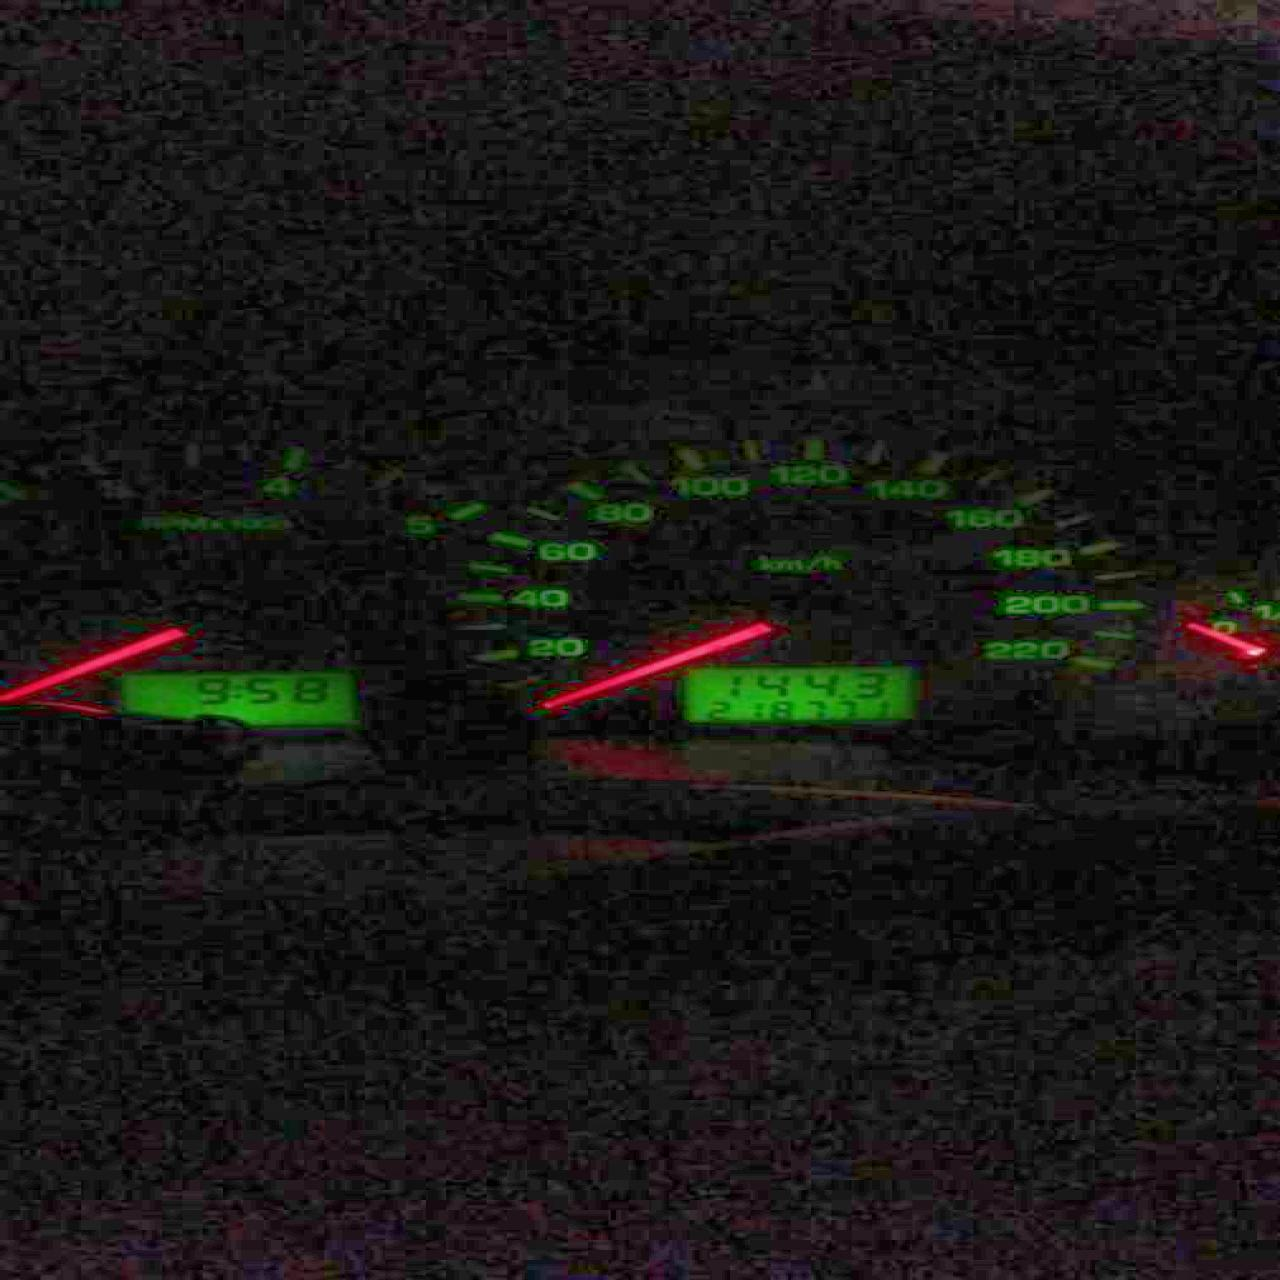-: (837, 692, 846, 697)
1: (720, 673, 745, 696), (745, 699, 765, 719), (872, 699, 892, 717)
2: (702, 699, 733, 720)
3: (850, 670, 885, 697)
4: (801, 672, 836, 696), (753, 673, 788, 696)
7: (831, 699, 857, 720), (801, 699, 826, 719)
8: (768, 700, 794, 719)
odometer: (674, 662, 920, 726)
